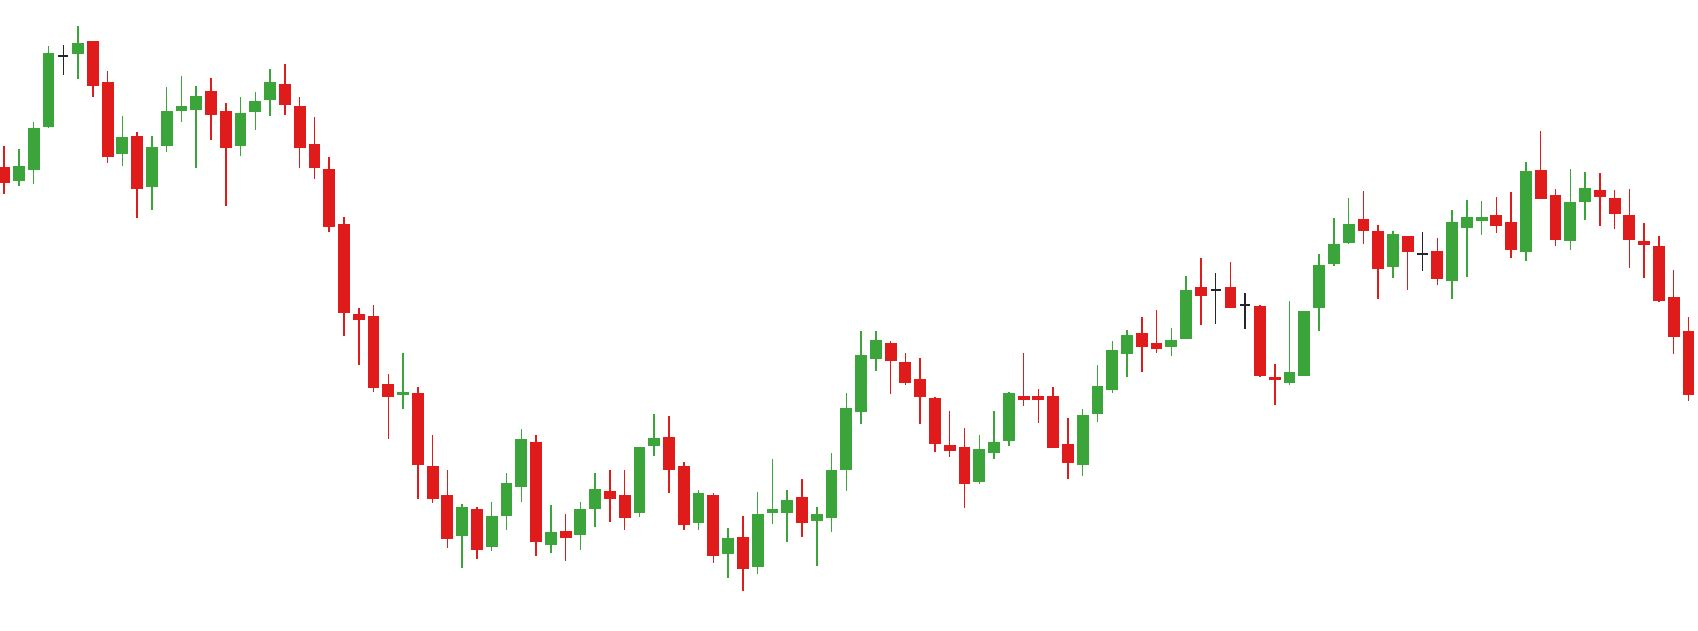buy: (1135, 294, 1298, 411)
